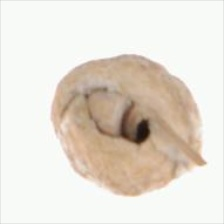L3: (80, 82, 155, 145)
L4: (51, 54, 203, 197)
